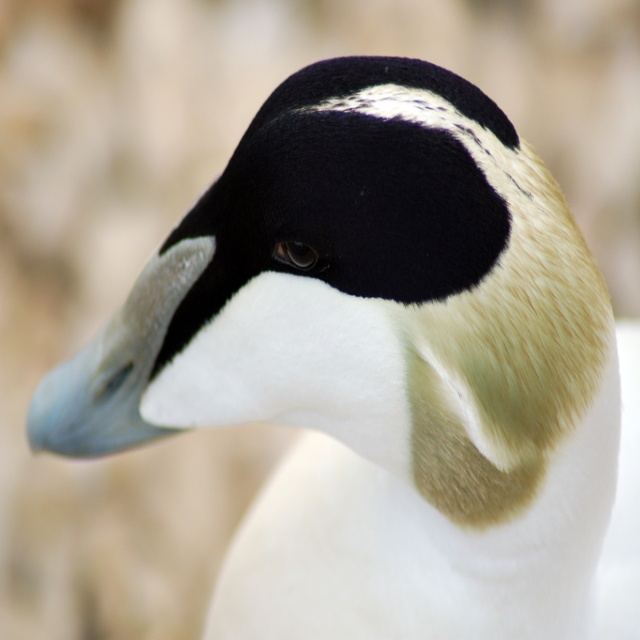Duck: (23, 56, 640, 640)
